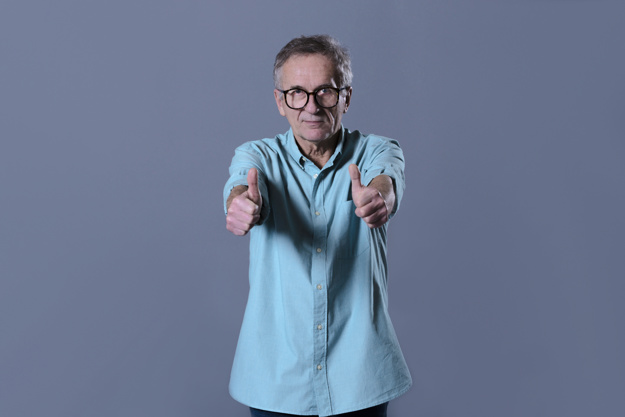thumbsup: (225, 168, 262, 236), (349, 164, 388, 228)
